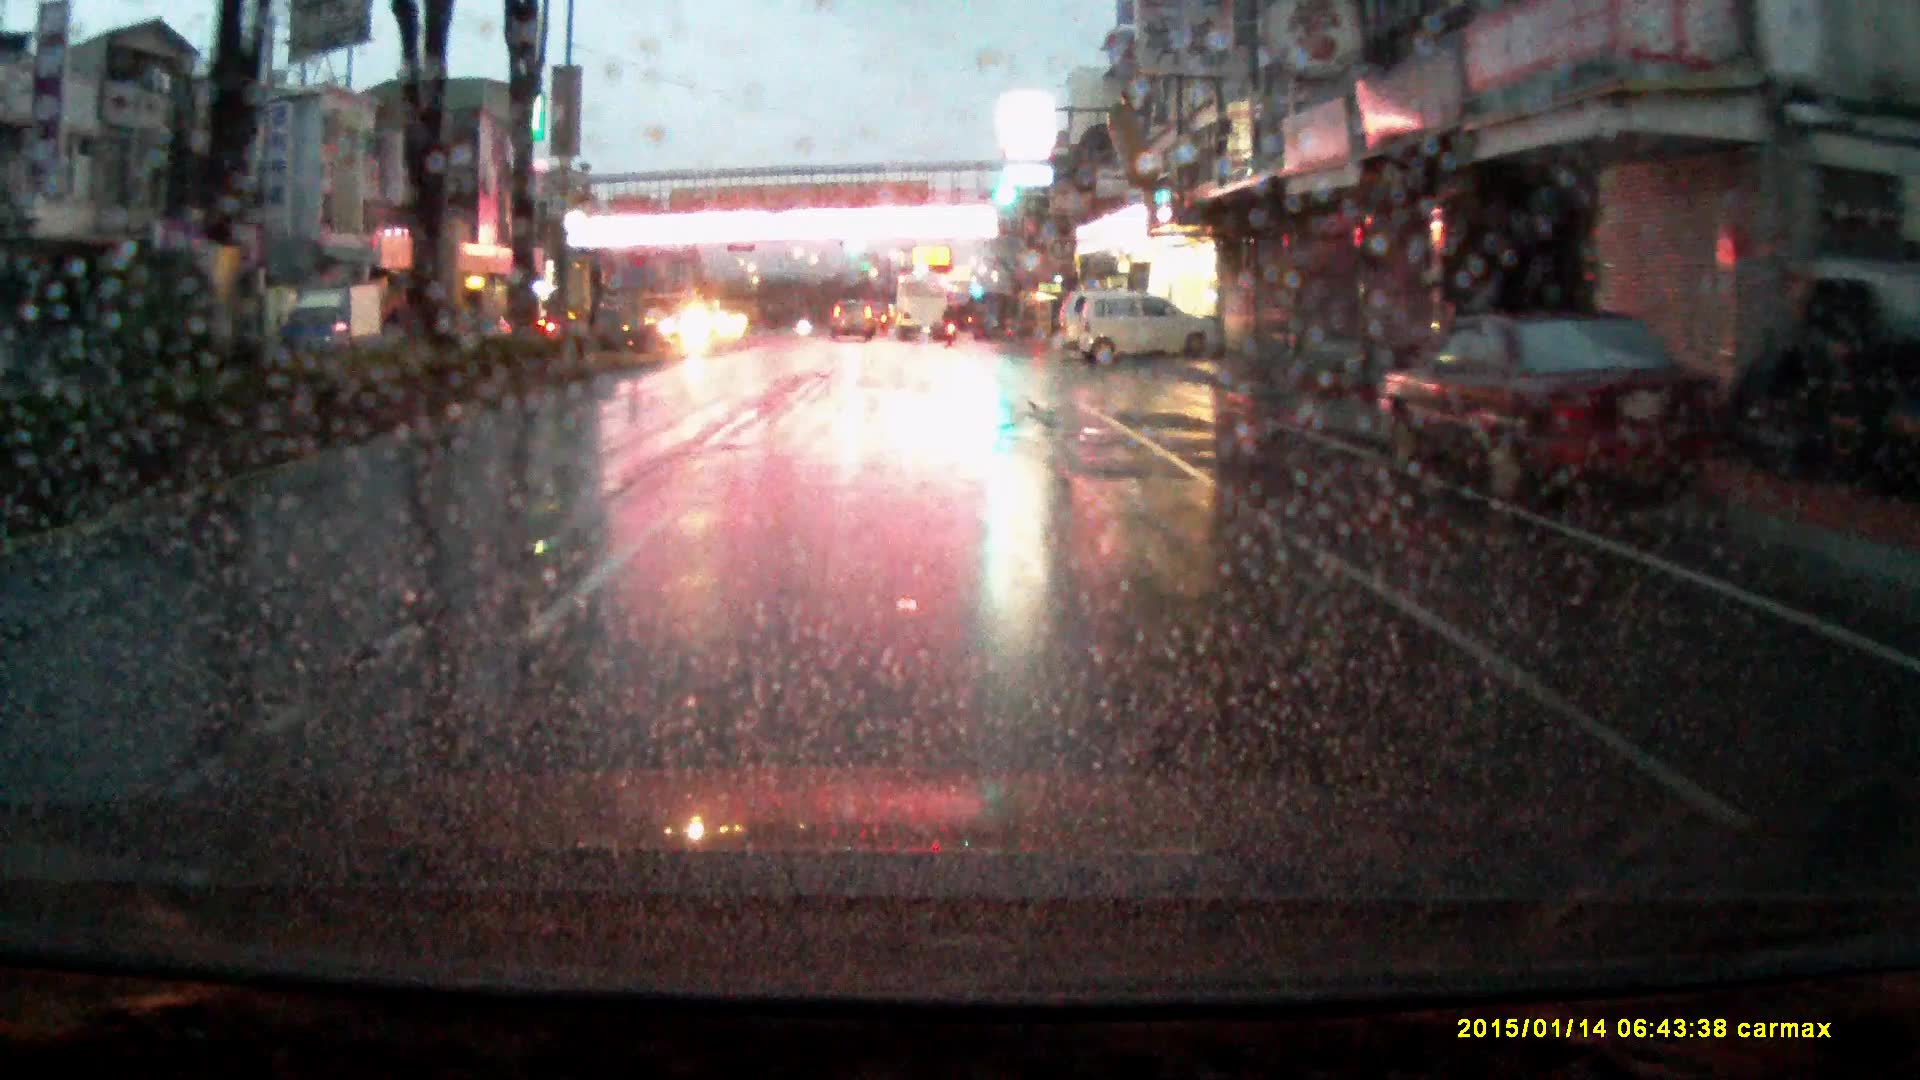rider: (941, 304, 961, 350)
vehicle: (1380, 319, 1728, 515), (1075, 294, 1227, 375), (279, 286, 381, 366), (1058, 295, 1121, 352), (897, 280, 946, 345), (832, 297, 879, 341)
